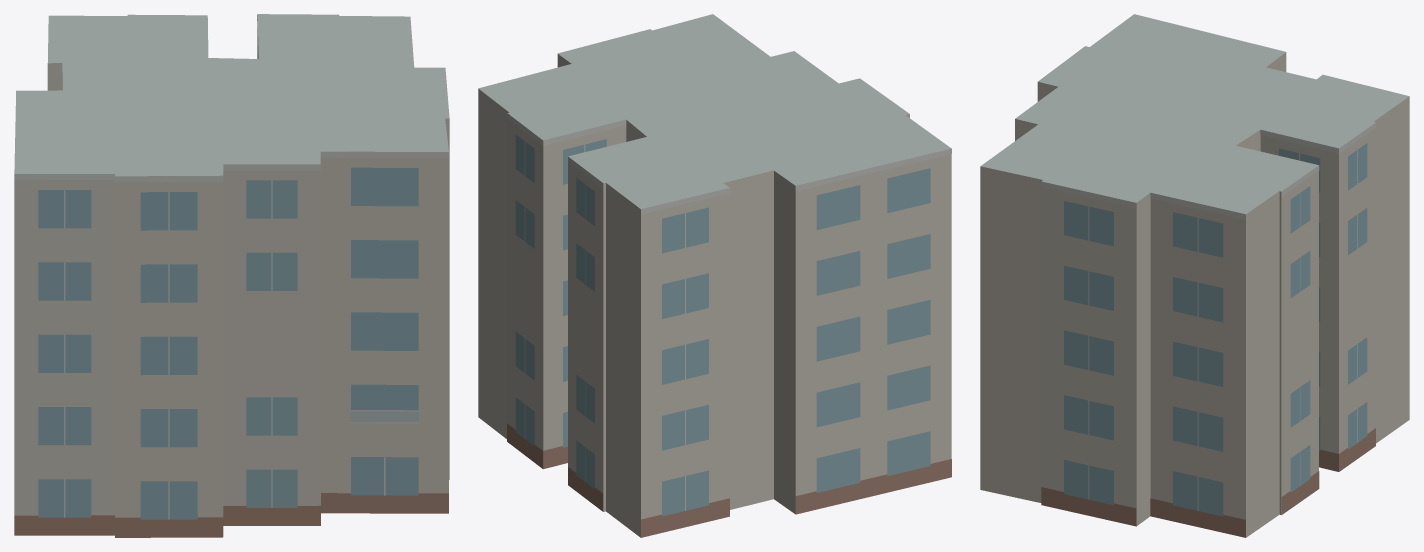
The model's file is survey-upis-32982571.glb.
3 views of the same model, side by side, from view 1: azimuth 30°, elevation 25°; view 2: azimuth 150°, elevation 25°; view 3: azimuth 270°, elevation 25° (orthographic). The views are drawn at different scales.
Visible parts, largest first — view 1: survey-upis-32982571.tmp; view 2: survey-upis-32982571.tmp; view 3: survey-upis-32982571.tmp.
Part boxes in pixels (box(x1,y1,x2,y2)): survey-upis-32982571.tmp: box(14, 14, 449, 537); survey-upis-32982571.tmp: box(478, 14, 951, 537); survey-upis-32982571.tmp: box(980, 14, 1409, 537).
Size of the model in its own units: 19.12 by 14.4 by 17.32.
